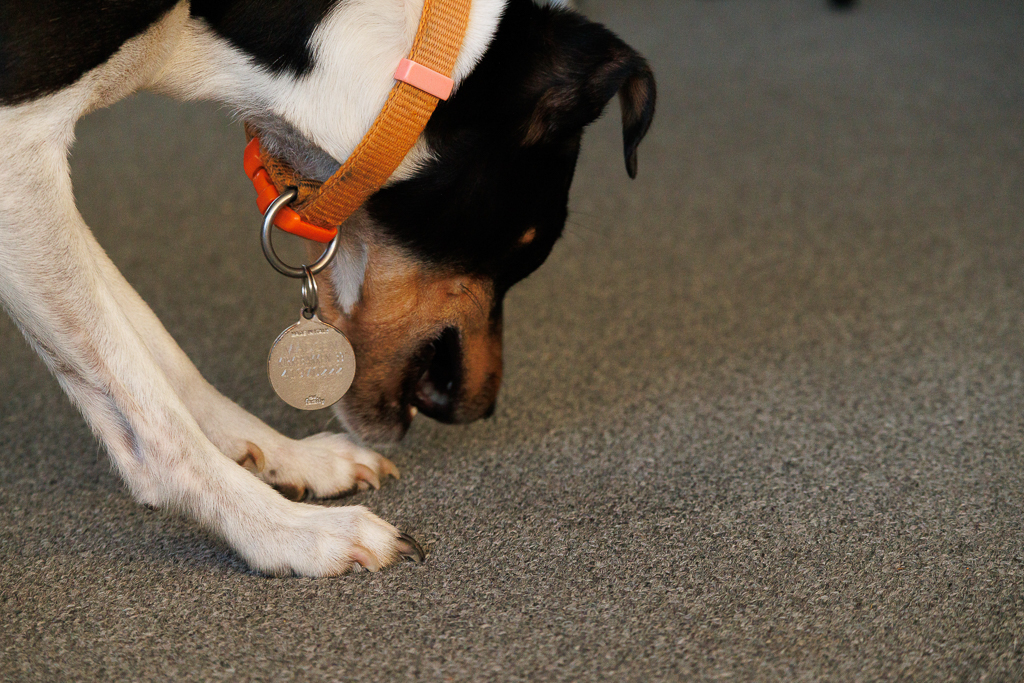Dog: (0, 0, 661, 590)
